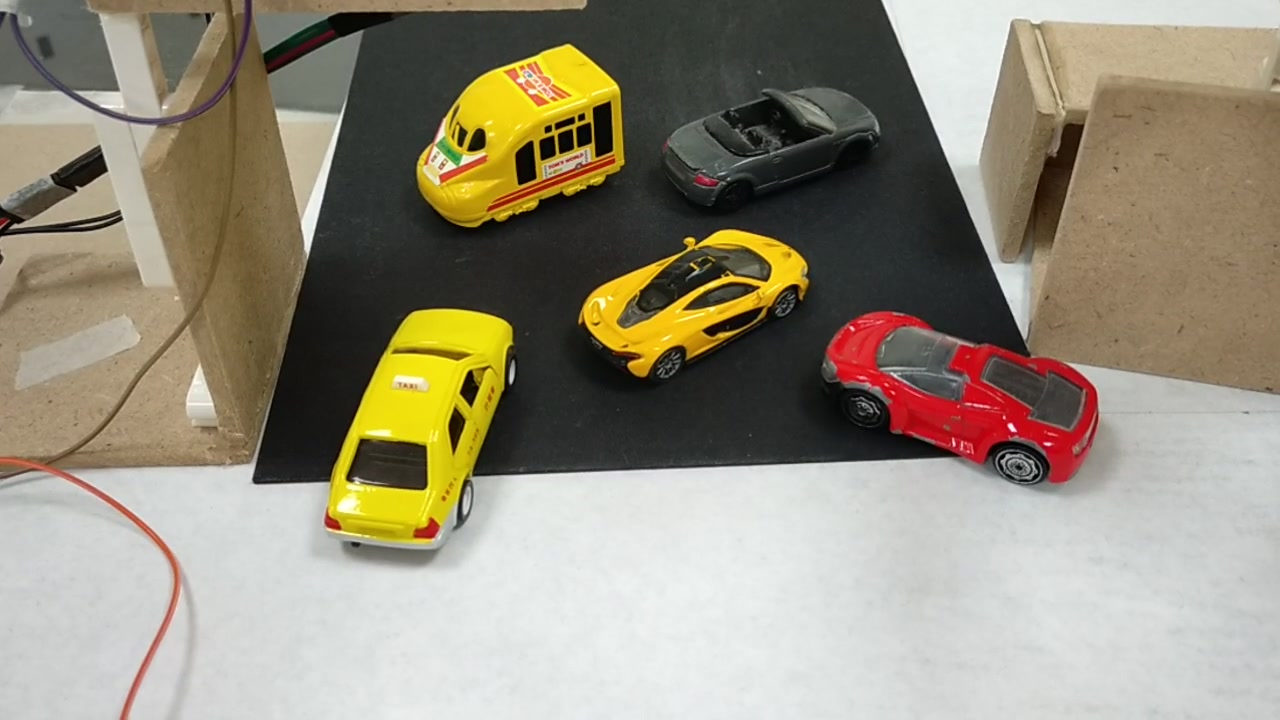car: (807, 303, 1100, 490), (319, 322, 528, 540), (578, 242, 808, 372), (665, 93, 884, 208)
